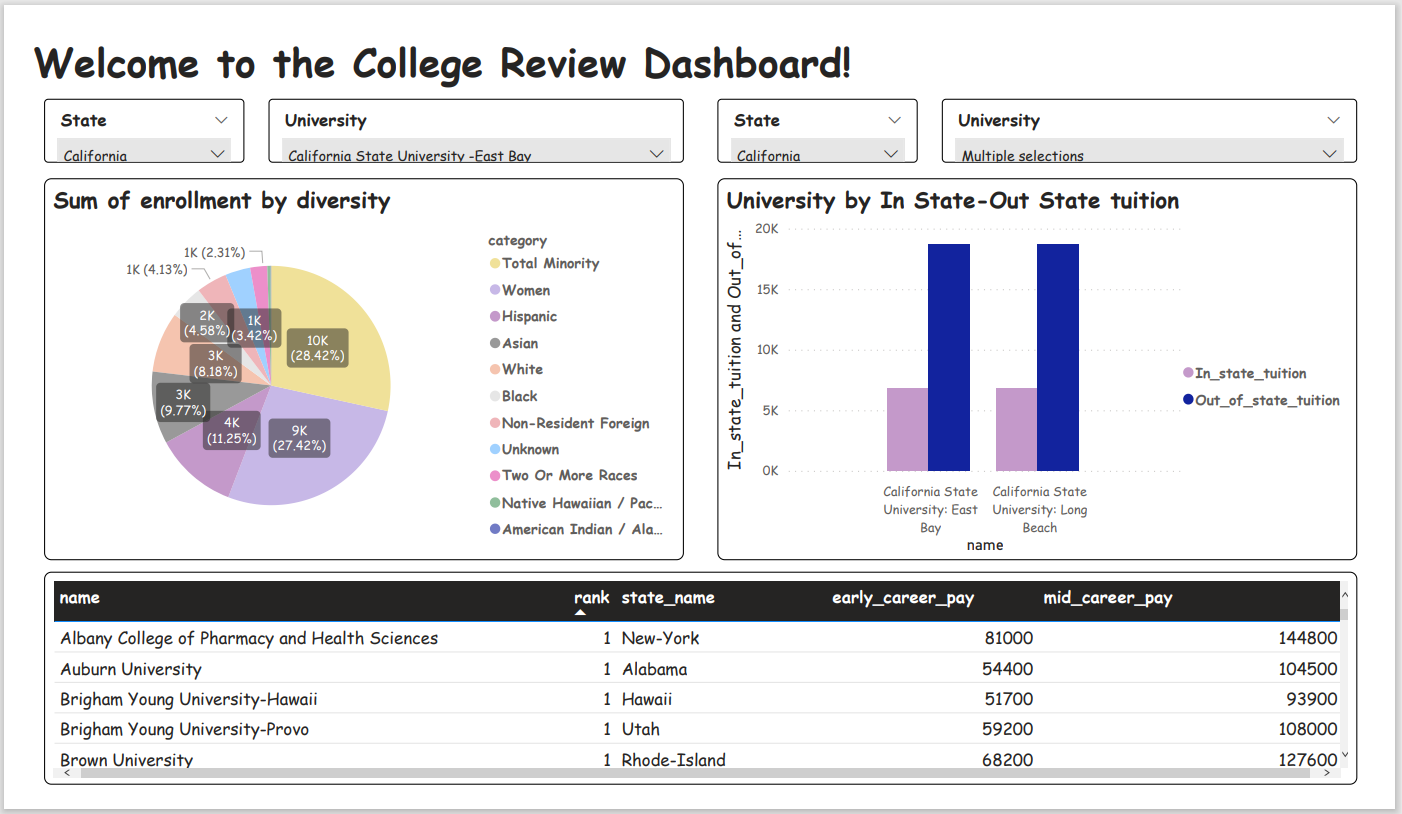

Layout of this report page (visuals, bound fields, positions):
{"tool":"powerbi","page":{"name":"College Review","canvas":[1280,720],"ordinal":0},"visuals":[{"type":"slicer","fields":{"Values":["diversity_school.state"]},"box":[15.1,66.3,191.2,60.6],"z":0},{"type":"slicer","fields":{"Values":["diversity_school.name"]},"box":[229.1,66.3,395.7,60.6],"z":1000},{"type":"pieChart","title":"Sum of enrollment by diversity","fields":{"Category":["diversity_school.category"],"Y":["Sum(diversity_school.enrollment)"]},"box":[15.1,142,609.7,363.6],"z":2000},{"type":"textbox","box":[0,0,1147.5,66.3],"z":3000},{"type":"clusteredColumnChart","title":"University by In State-Out State tuition","fields":{"Y":["Sum(tuition_cost.in_state_tuition)","Sum(tuition_cost.out_of_state_tuition)"],"Category":["tuition_cost.name"]},"box":[657,142,609.7,363.6],"z":4000},{"type":"slicer","fields":{"Values":["tuition_cost.state"]},"box":[657,66.3,191.2,60.6],"z":5000},{"type":"slicer","fields":{"Values":["tuition_cost.name"]},"box":[871,66.3,395.7,60.6],"z":6000},{"type":"tableEx","fields":{"Values":["salary_potential.name","salary_potential.rank","salary_potential.state_name","salary_potential.early_career_pay","salary_potential.mid_career_pay"]},"box":[15.1,516.9,1251.6,202.6],"z":7000}]}

Visuals, with their boxes in screenshot pixels (x1, y1, x2, y2):
slicer - diversity_school.state: box=[49, 98, 248, 161]
slicer - diversity_school.name: box=[272, 98, 684, 161]
"Sum of enrollment by diversity" pieChart: box=[49, 177, 684, 556]
textbox: box=[33, 29, 1228, 98]
"University by In State-Out State tuition" clusteredColumnChart: box=[717, 177, 1353, 556]
slicer - tuition_cost.state: box=[717, 98, 917, 161]
slicer - tuition_cost.name: box=[940, 98, 1353, 161]
tableEx - salary_potential.name x salary_potential.rank: box=[49, 568, 1353, 779]
